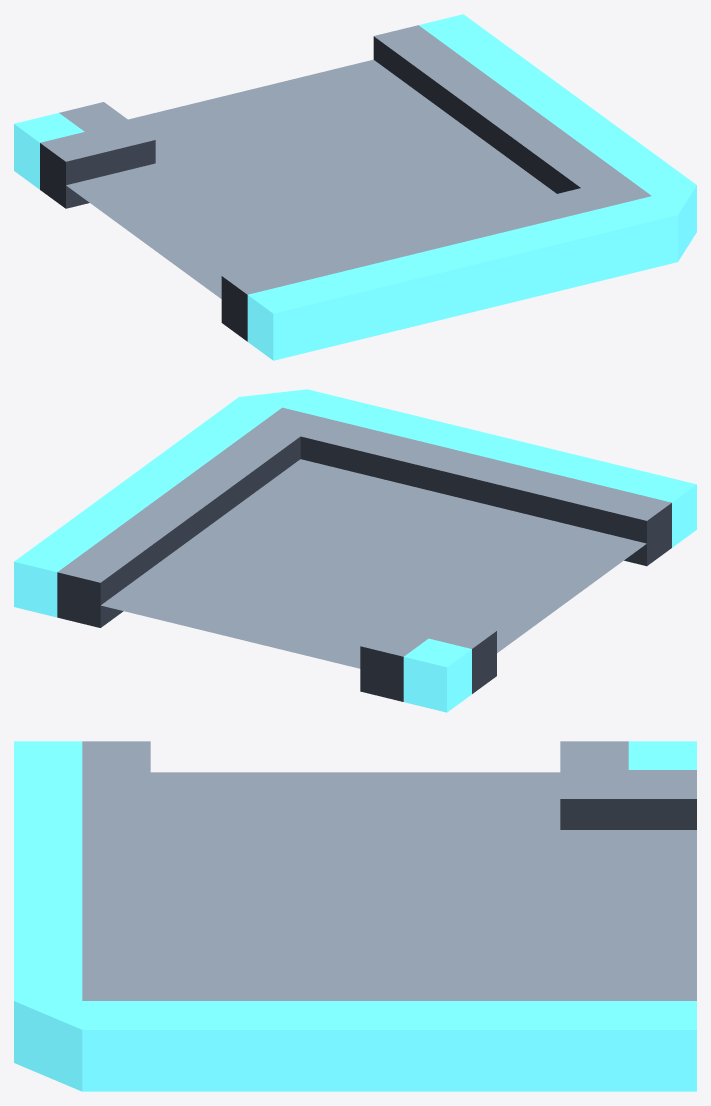
The model's file is platform_corner.glb.
3 views of the same model, one above another, from view 1: azimuth 30°, elevation 25°; view 2: azimuth 150°, elevation 25°; view 3: azimuth 270°, elevation 25° (orthographic). The views are drawn at different scales.
Visible parts, largest first — view 1: platform_corner; view 2: platform_corner; view 3: platform_corner.
Part boxes in pixels (box(x1,y1,x2,y2)): platform_corner: box(14, 14, 696, 360); platform_corner: box(14, 389, 696, 712); platform_corner: box(14, 741, 696, 1091).
Size of the model in its own units: 1 by 0.1 by 1.
